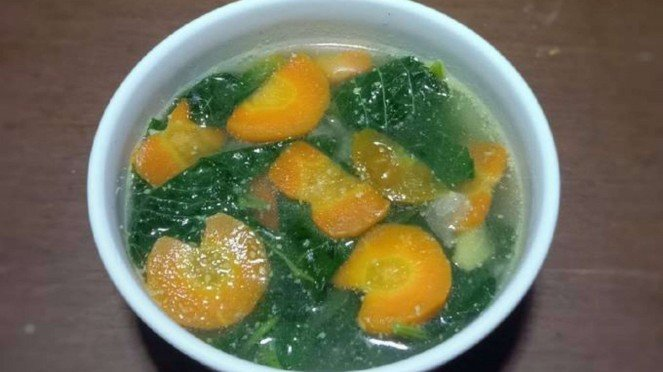Sayur Bayam: (58, 22, 567, 364)
